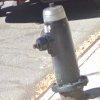a fire hydrant: (32, 2, 89, 96)
